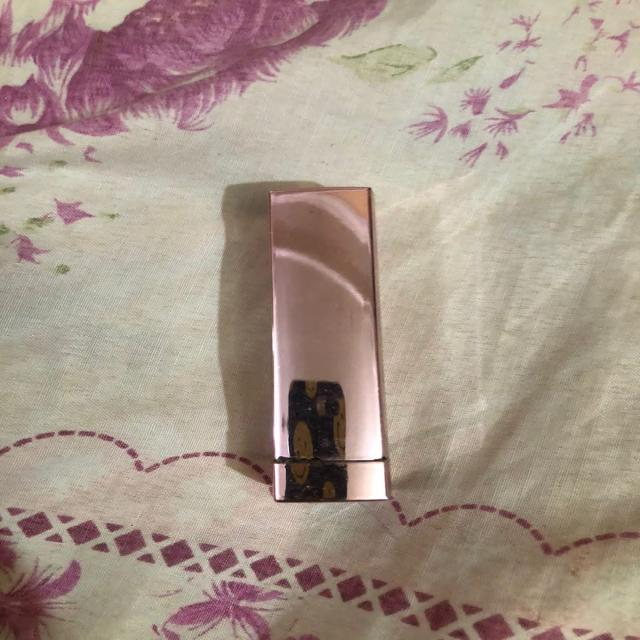lip stick: (238, 131, 438, 535)
